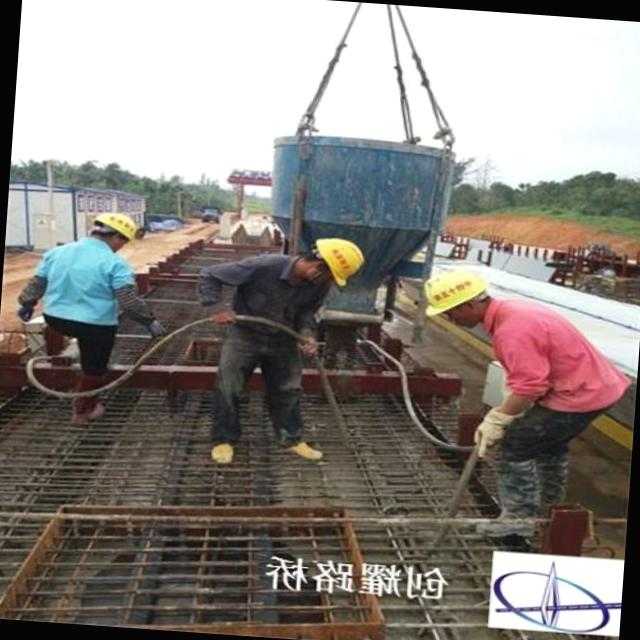helmet: (406, 258, 499, 324)
no-vest: (474, 294, 612, 420), (30, 230, 140, 338)
